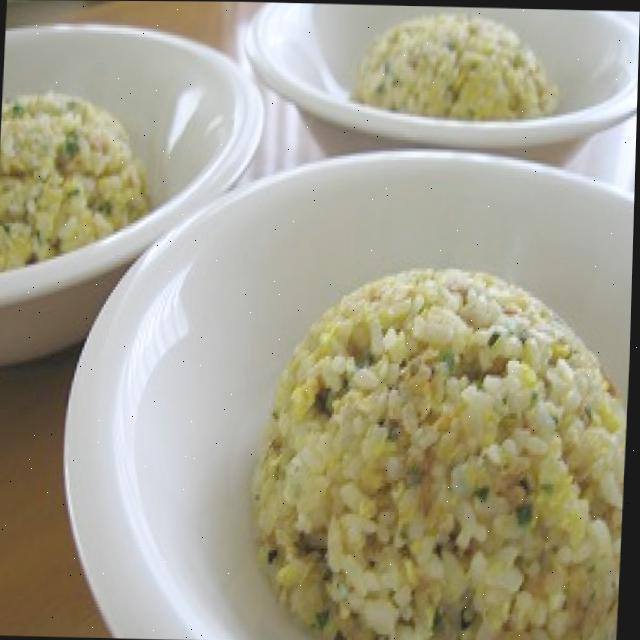米饭主食: (218, 231, 635, 640)
